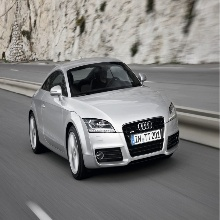no damage: (28, 59, 181, 179)
